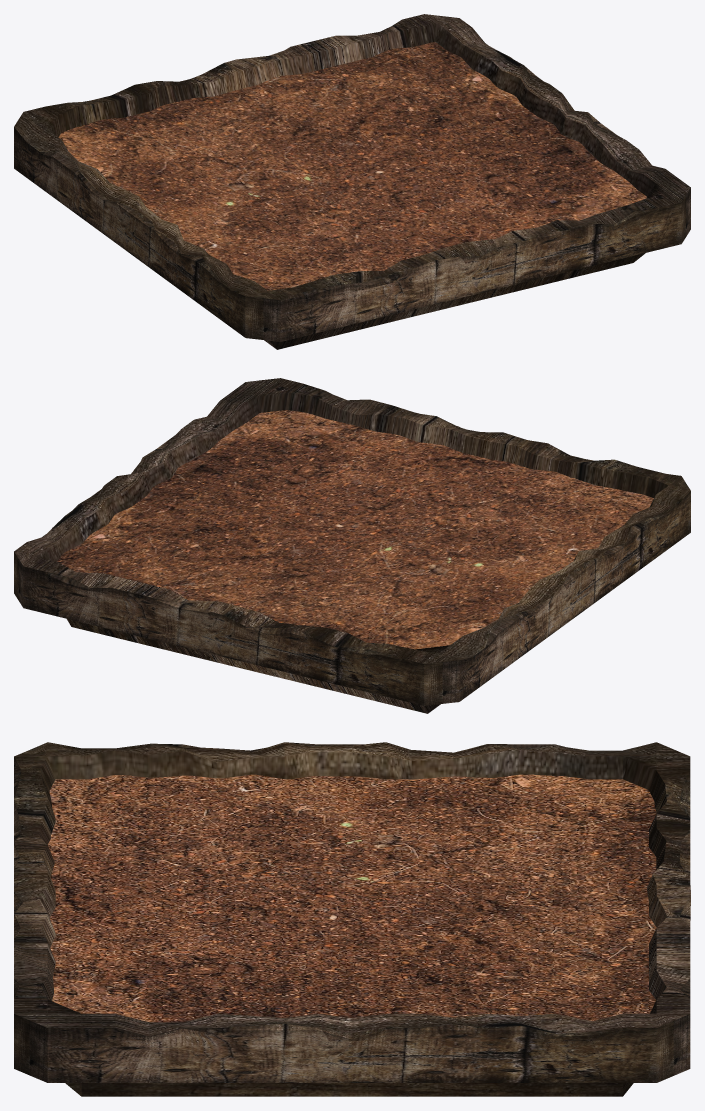
File: farm_land.glb
3 renders of one model, top to bottom at view 1: azimuth 30°, elevation 25°; view 2: azimuth 150°, elevation 25°; view 3: azimuth 270°, elevation 25°, orthographic. The views are drawn at different scales.
Visible parts, largest first — view 1: Küp (×2); view 2: Küp (×2); view 3: Küp (×2).
Boxes of the visible parts, x1,y1,x2,y2 form: Küp (×2): (14,14,690,349); Küp (×2): (14,378,690,713); Küp (×2): (14,742,690,1096).
Size of the model in its own units: 1 by 0.1626 by 1.
Materials: 2 (2 with a texture image).
